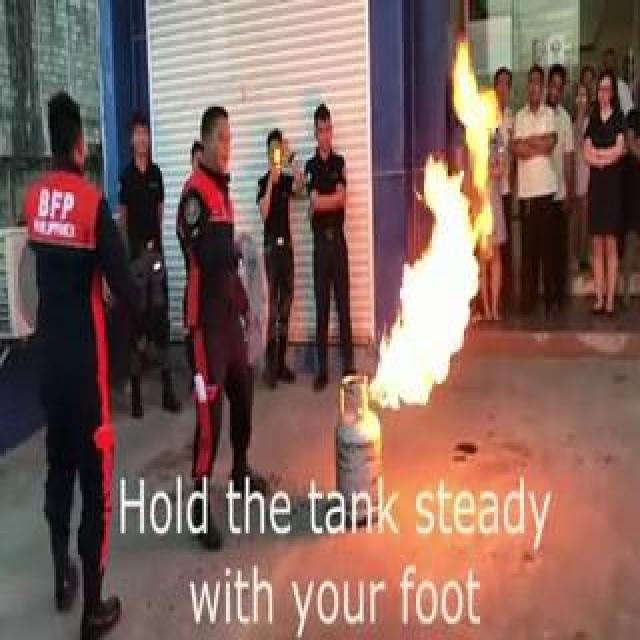Smoke: (362, 150, 482, 418)
